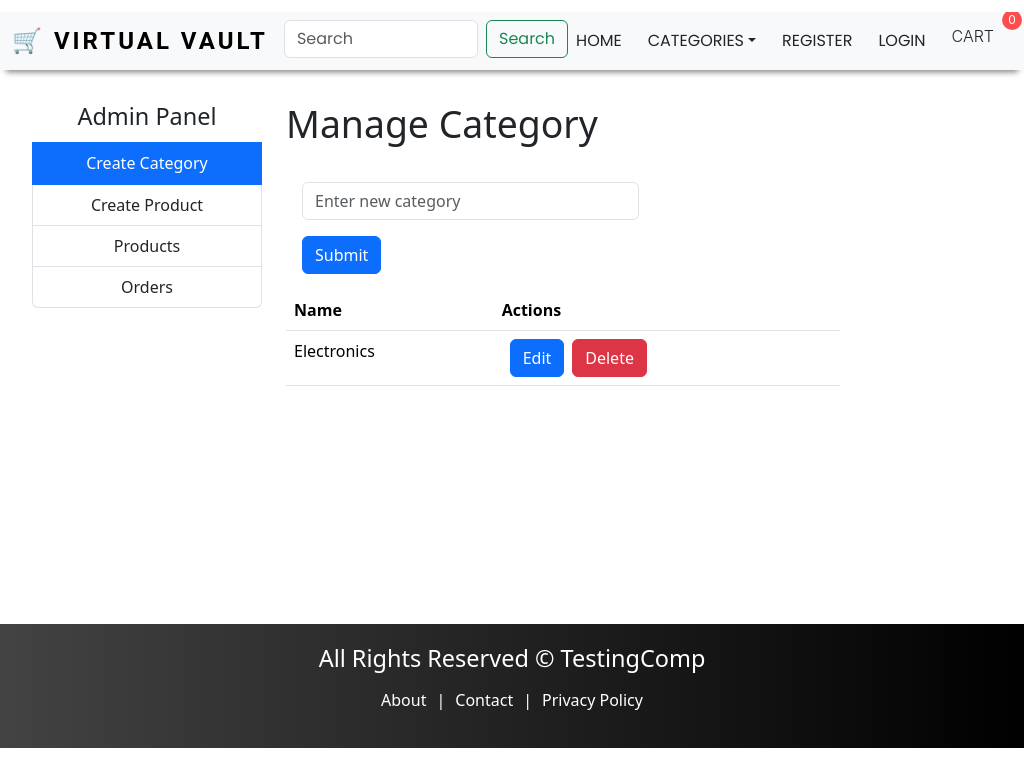
Test case: Admin create category integration with other components › able to delete category
The image size is (1024, 780).
Expected: the cell "Electronics" is shown, top-left (286, 330), bottom-right (494, 385)
Click the button "Delete": {"x": 610, "y": 358} top-left (572, 338), bottom-right (647, 376)
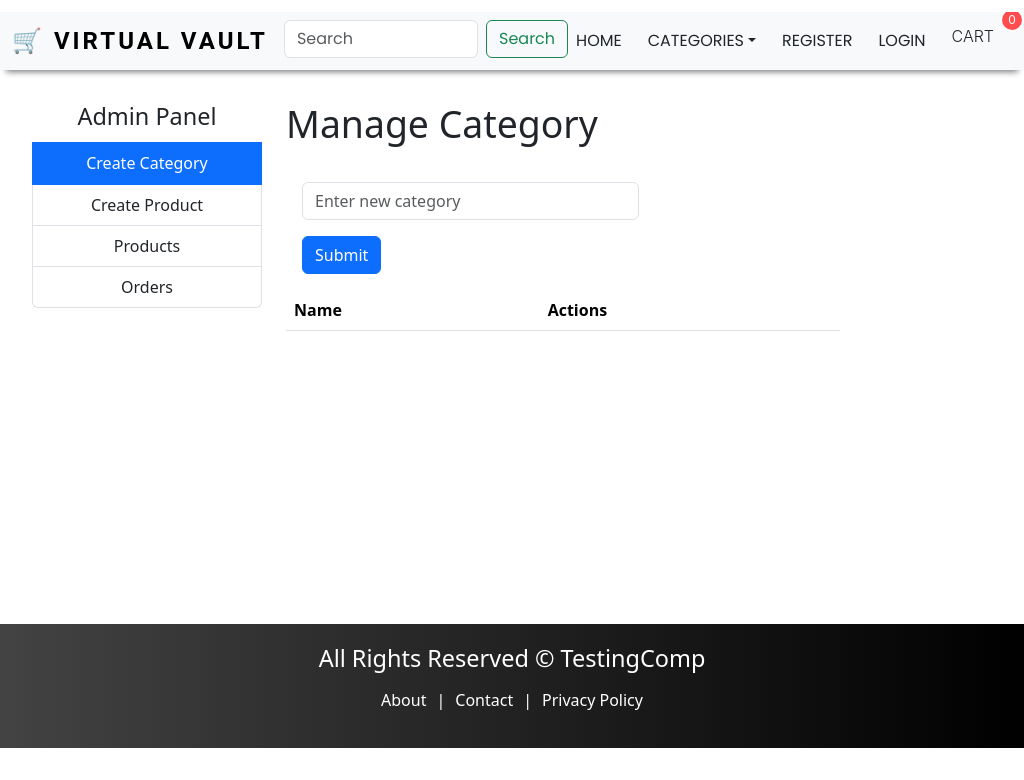
Expected: the cell "Electronics" is gone
